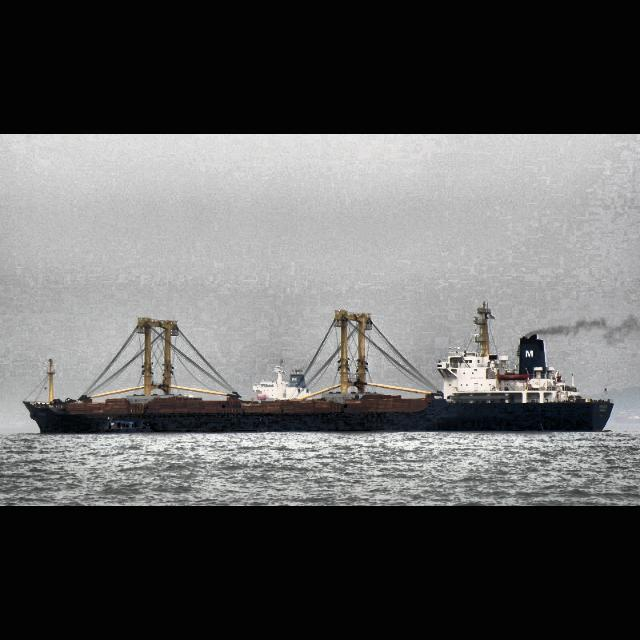bulk_carrier: (23, 302, 615, 436)
